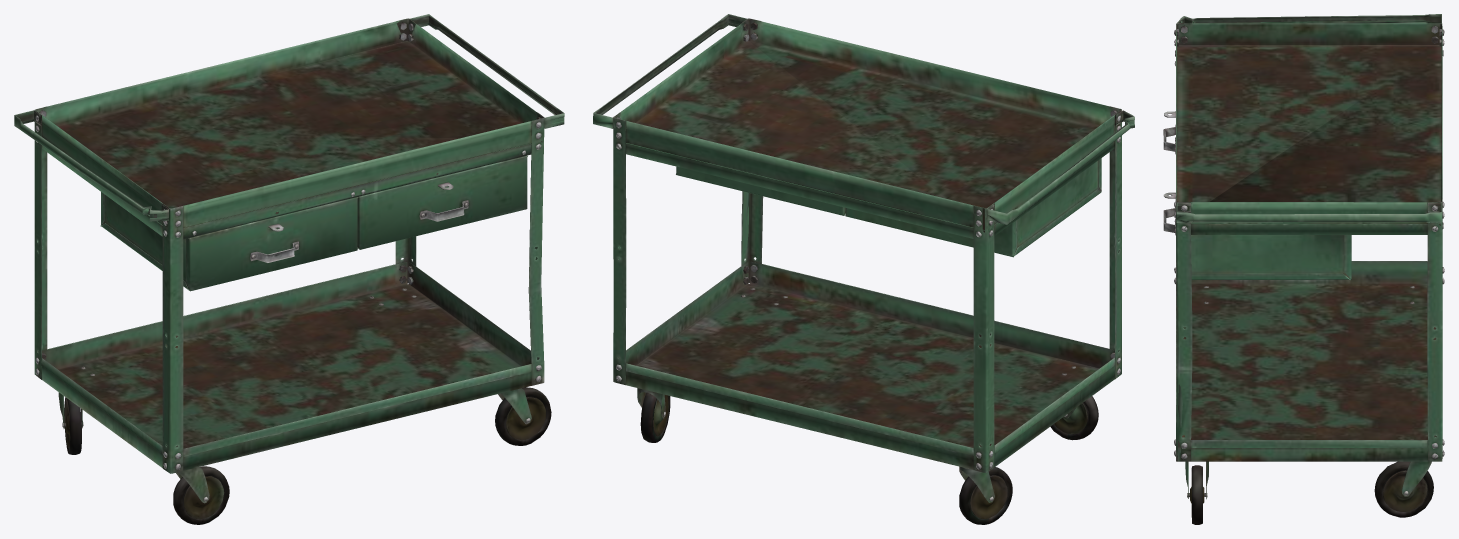
File: tool_cart.glb
3 views of the same model, side by side, from view 1: azimuth 30°, elevation 25°; view 2: azimuth 150°, elevation 25°; view 3: azimuth 270°, elevation 25° (orthographic). The views are drawn at different scales.
Visible parts, largest first — view 1: tool_cart; view 2: tool_cart; view 3: tool_cart.
Boxes of the visible parts, x1,y1,x2,y2 form: tool_cart: (14, 14, 564, 524); tool_cart: (593, 14, 1134, 524); tool_cart: (1163, 14, 1444, 524).
Size of the model in its own units: 1.27 by 0.9647 by 0.7537.
Materials: 1 (1 with a texture image).
